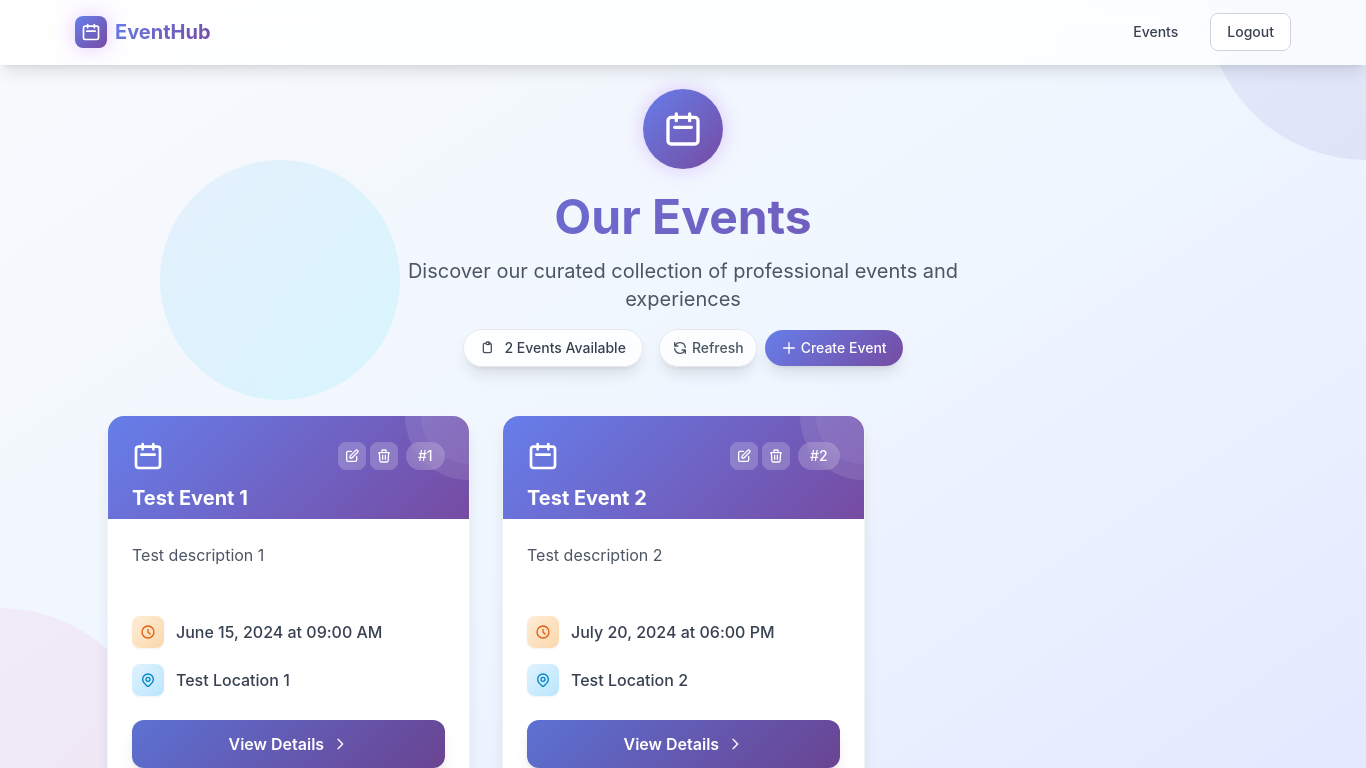
Test: Events Component - Delete Functionality › Admin Delete Controls › should update event count after deletion
Expected: the text "2 Events Available" is shown, [504,338,626,358]
Click the 1st button titled "Delete Event" at (384, 456), box [370,442,398,470]
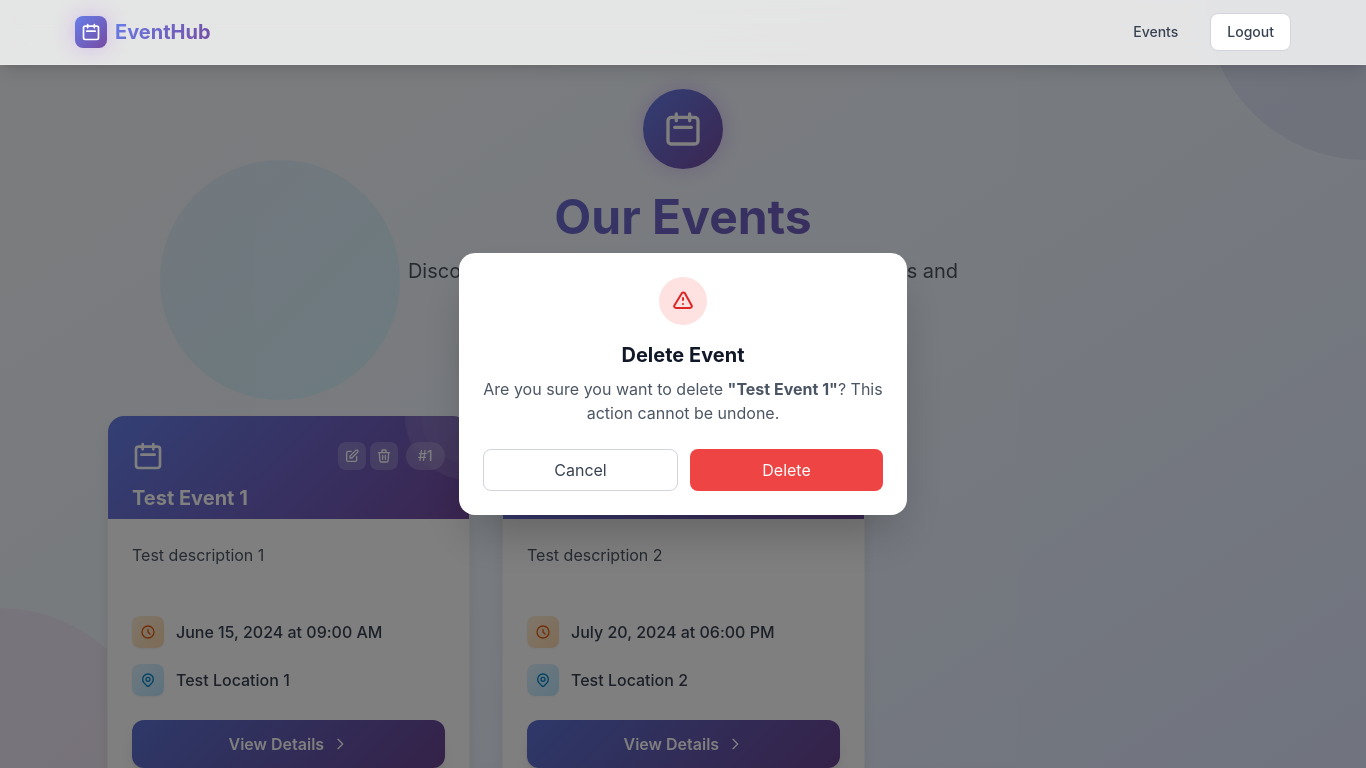
Now the heading "Delete Event" is shown, box [622,343,744,367]
# Click delete
Click the button "Delete" at (786, 470), box [690,449,883,491]
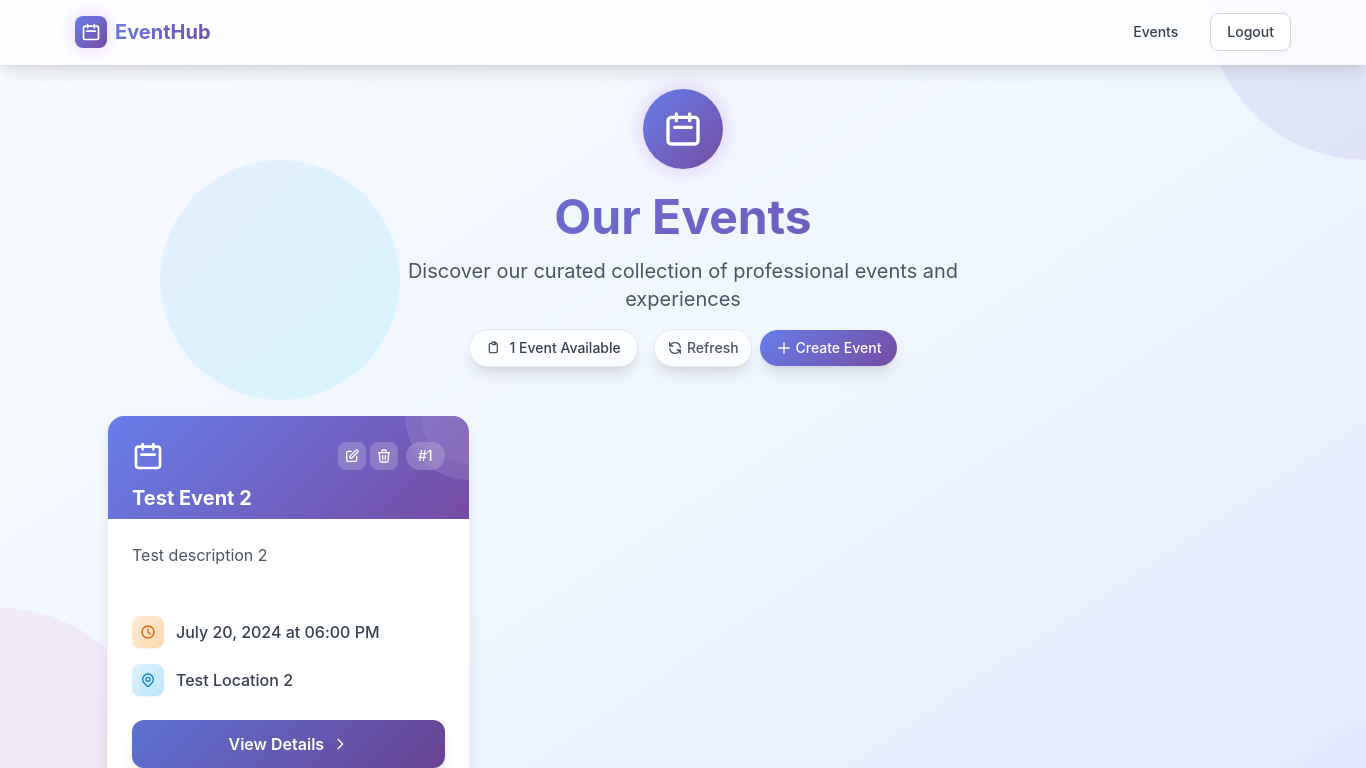
Now the text "1 Event Available" is shown, box [510,338,621,358]
